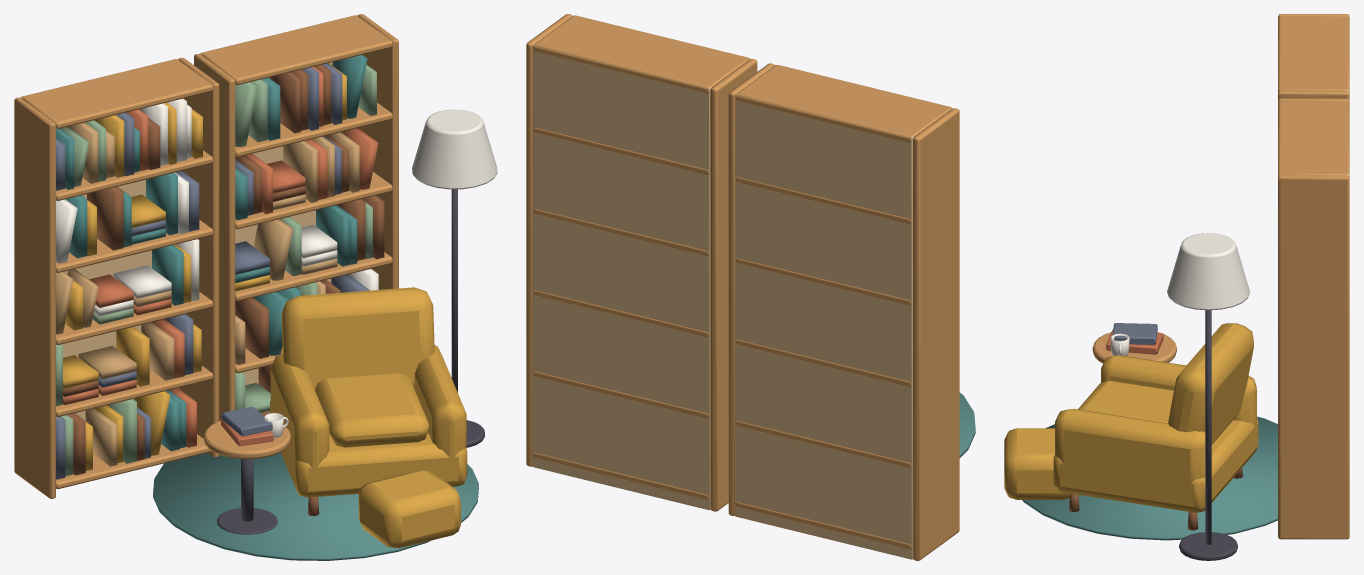
File: library_l3.glb
The picture shows the model from 3 angles, left to right: view 1: azimuth 30°, elevation 25°; view 2: azimuth 150°, elevation 25°; view 3: azimuth 270°, elevation 25°; orthographic projection. The views are drawn at different scales.
Visible parts, largest first — view 1: library_l3; view 2: library_l3; view 3: library_l3.
Part boxes in pixels (bbox=[...]): library_l3: bbox=[14, 14, 497, 560]; library_l3: bbox=[526, 14, 975, 560]; library_l3: bbox=[1004, 14, 1349, 560].
Bounding box in the file's own units: 2.15 × 1.9 × 1.64.
